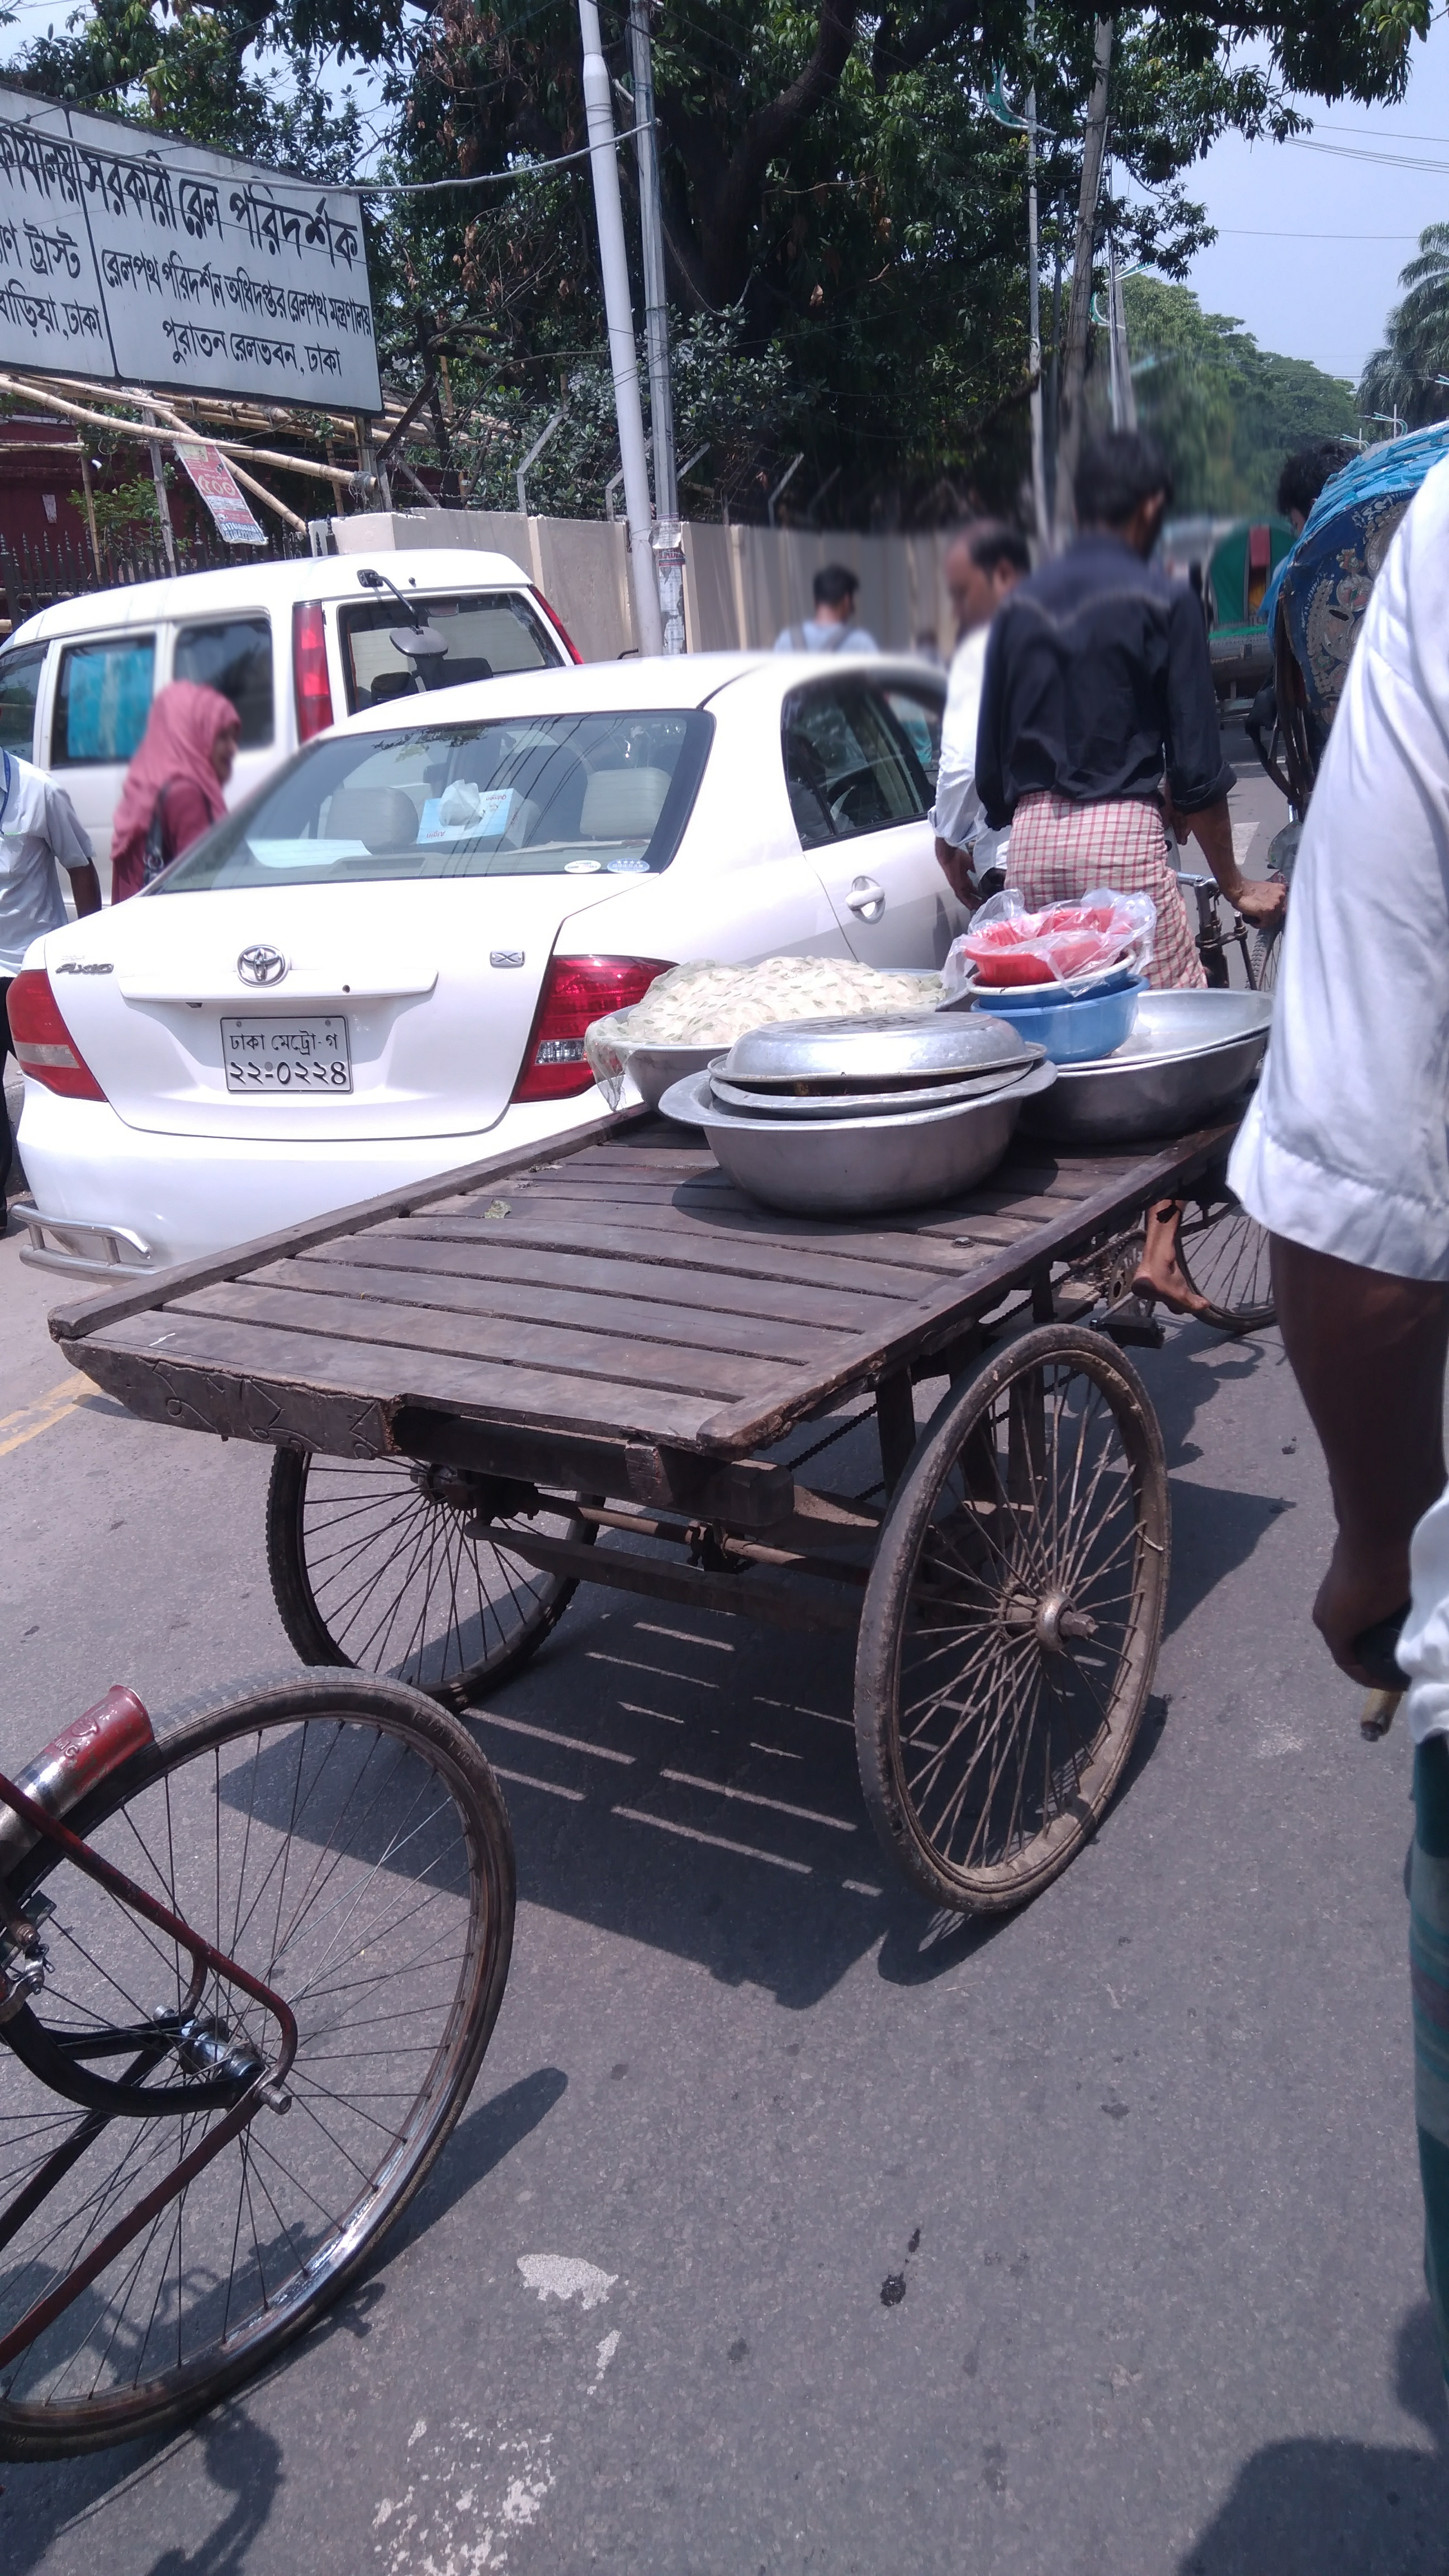car: (5, 651, 955, 1293), (0, 547, 573, 886)
rickshaw: (1263, 428, 1449, 847), (1200, 520, 1300, 711)
van: (53, 874, 1288, 1916)
